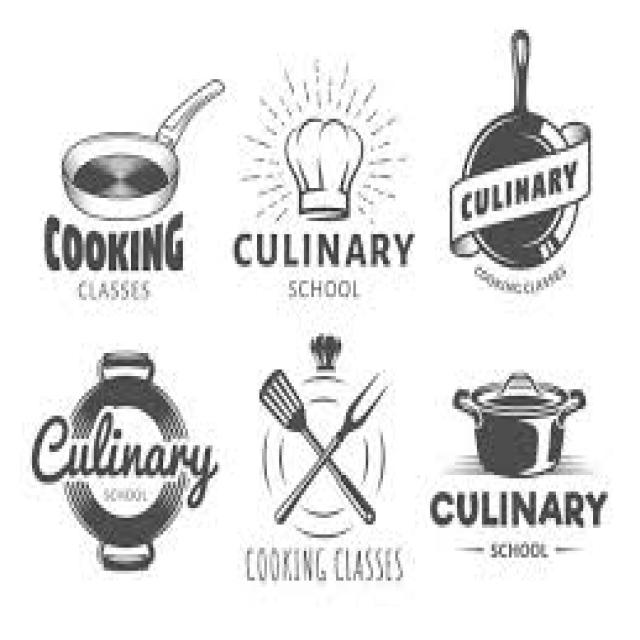Knife: (260, 366, 386, 525)
